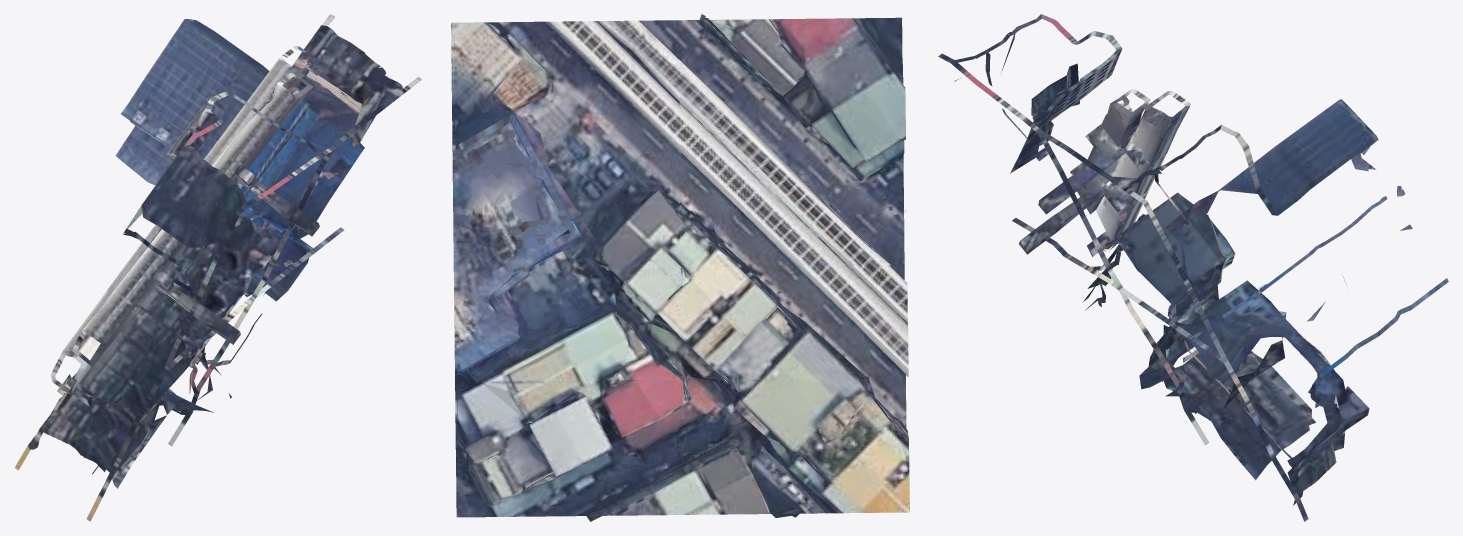
3 views of the same model, side by side, from view 1: azimuth 30°, elevation 25°; view 2: azimuth 150°, elevation 25°; view 3: azimuth 270°, elevation 25° (orthographic). The views are drawn at different scales.
Bounding box in the file's own units: 84.28 × 78.63 × 88.43.
Materials: 2 (2 with a texture image).
